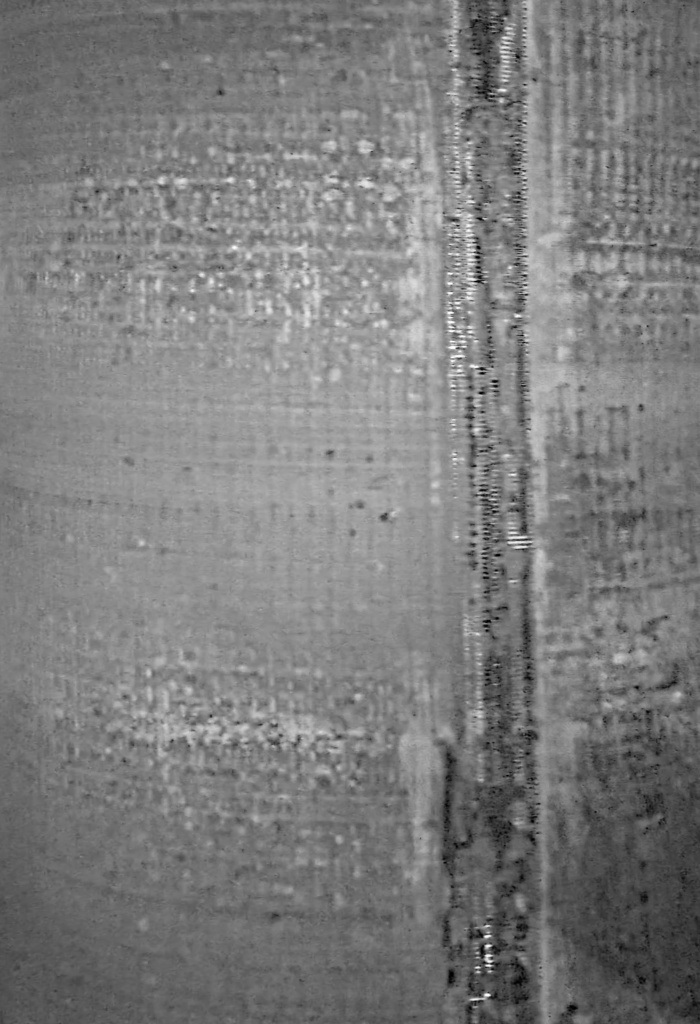splice: (427, 2, 548, 1024)
